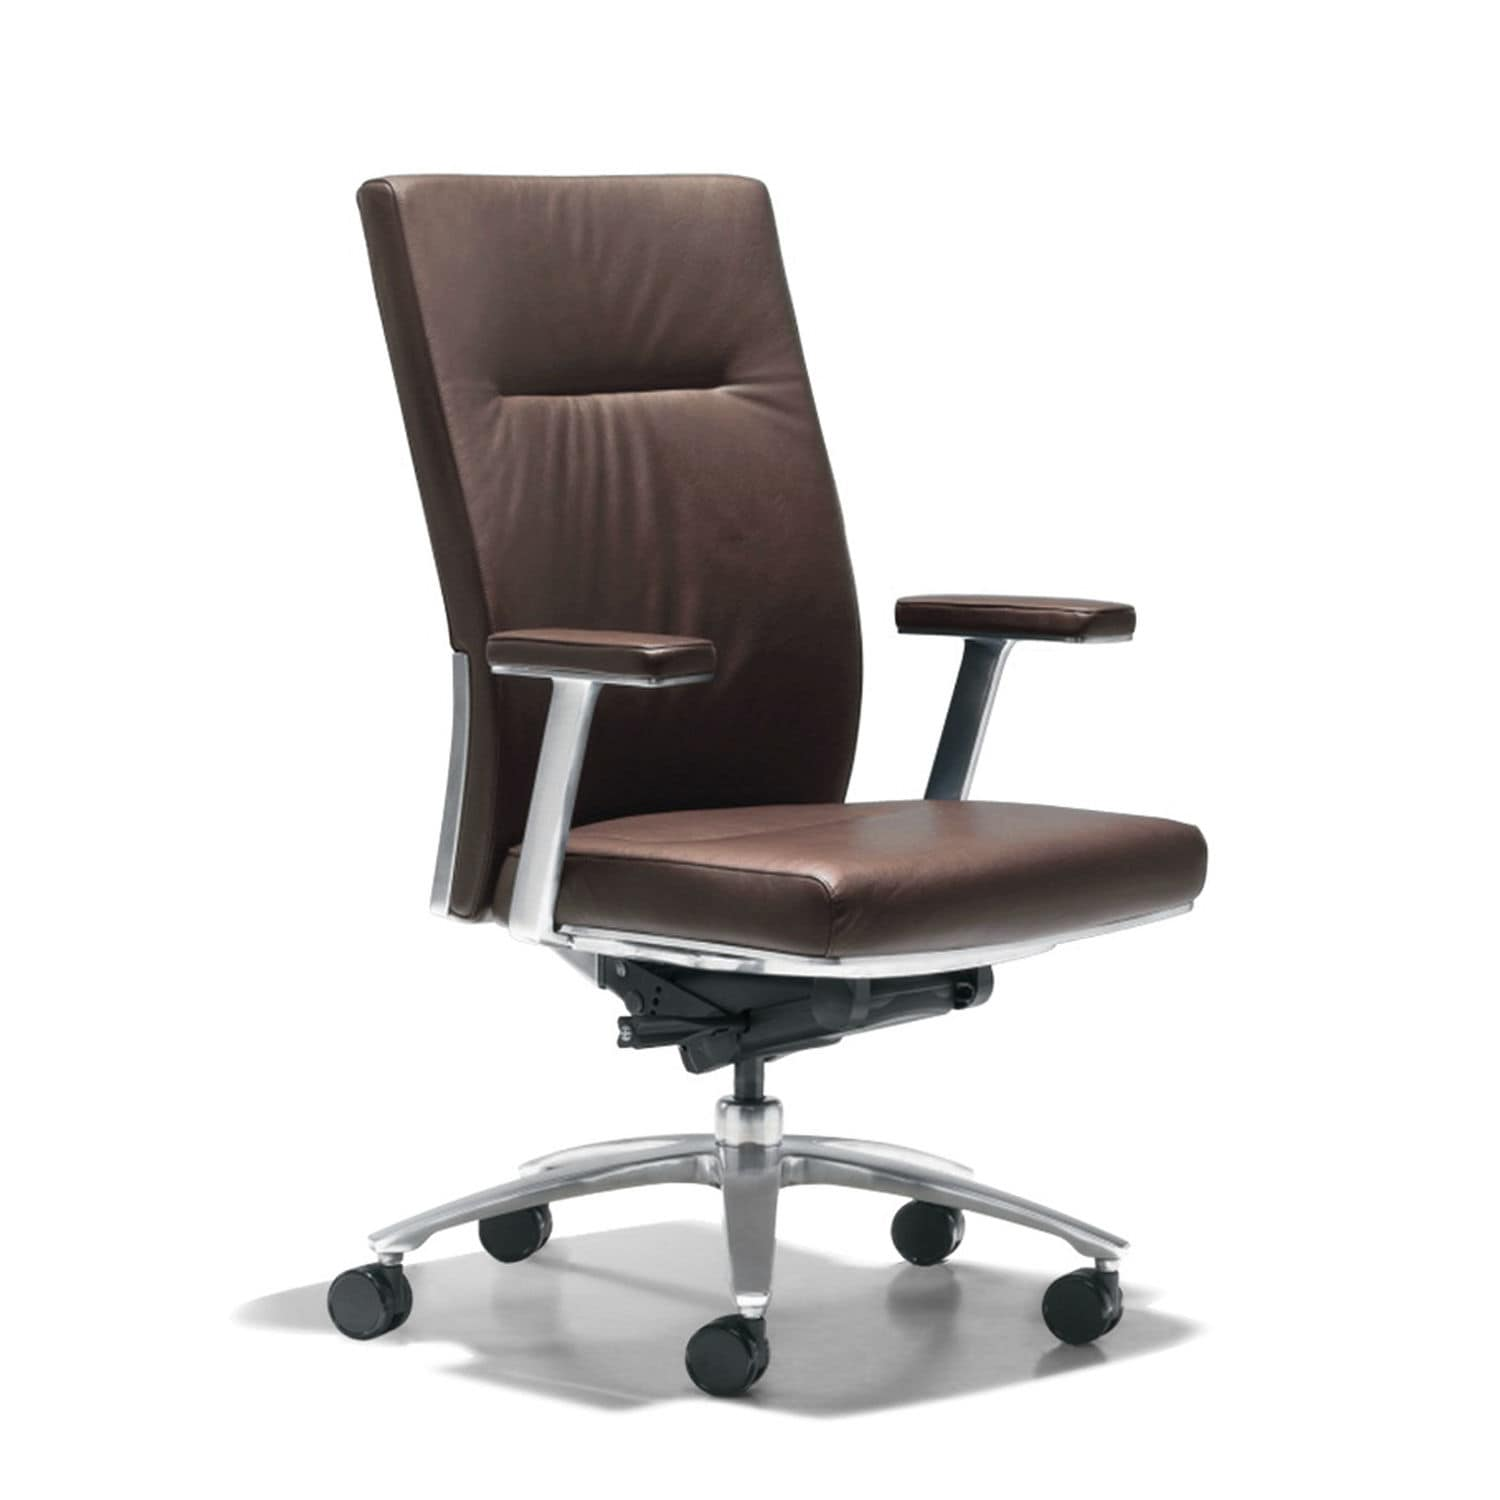chairs: (310, 176, 1217, 1411)
